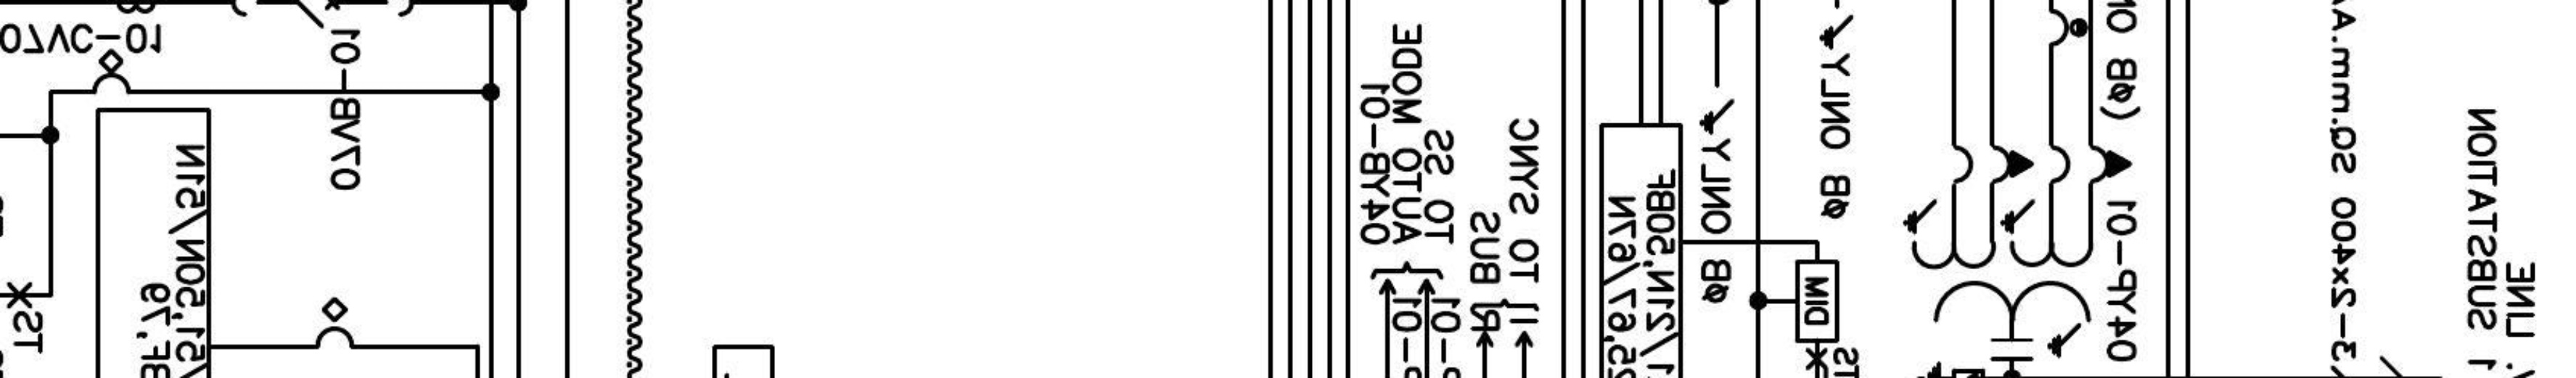115_cvt_1p: (1901, 141, 2132, 363)
DIM: (1794, 260, 1840, 343)
